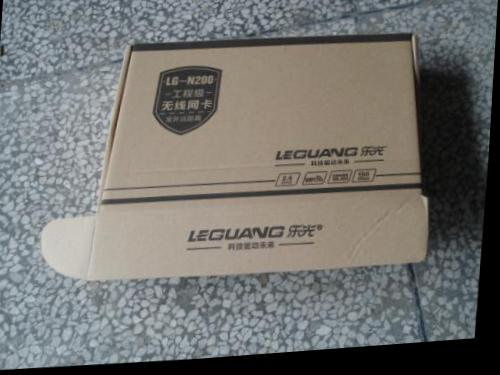cardboard: (42, 35, 427, 278)
